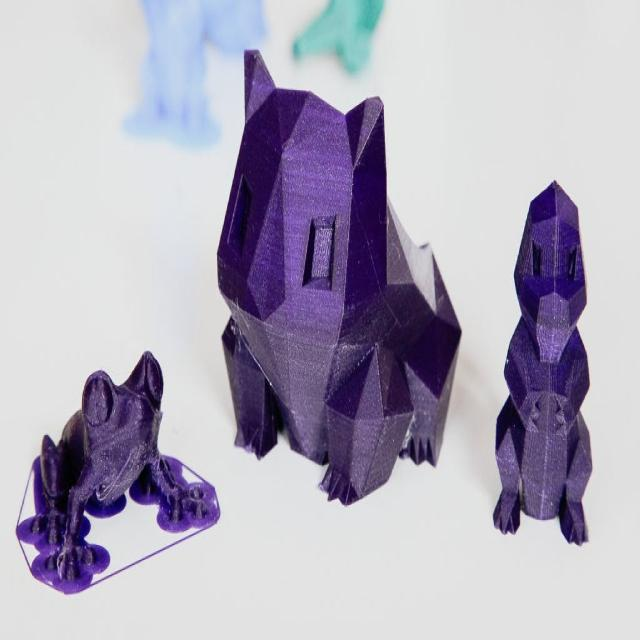Without deffect: (218, 46, 461, 509)
